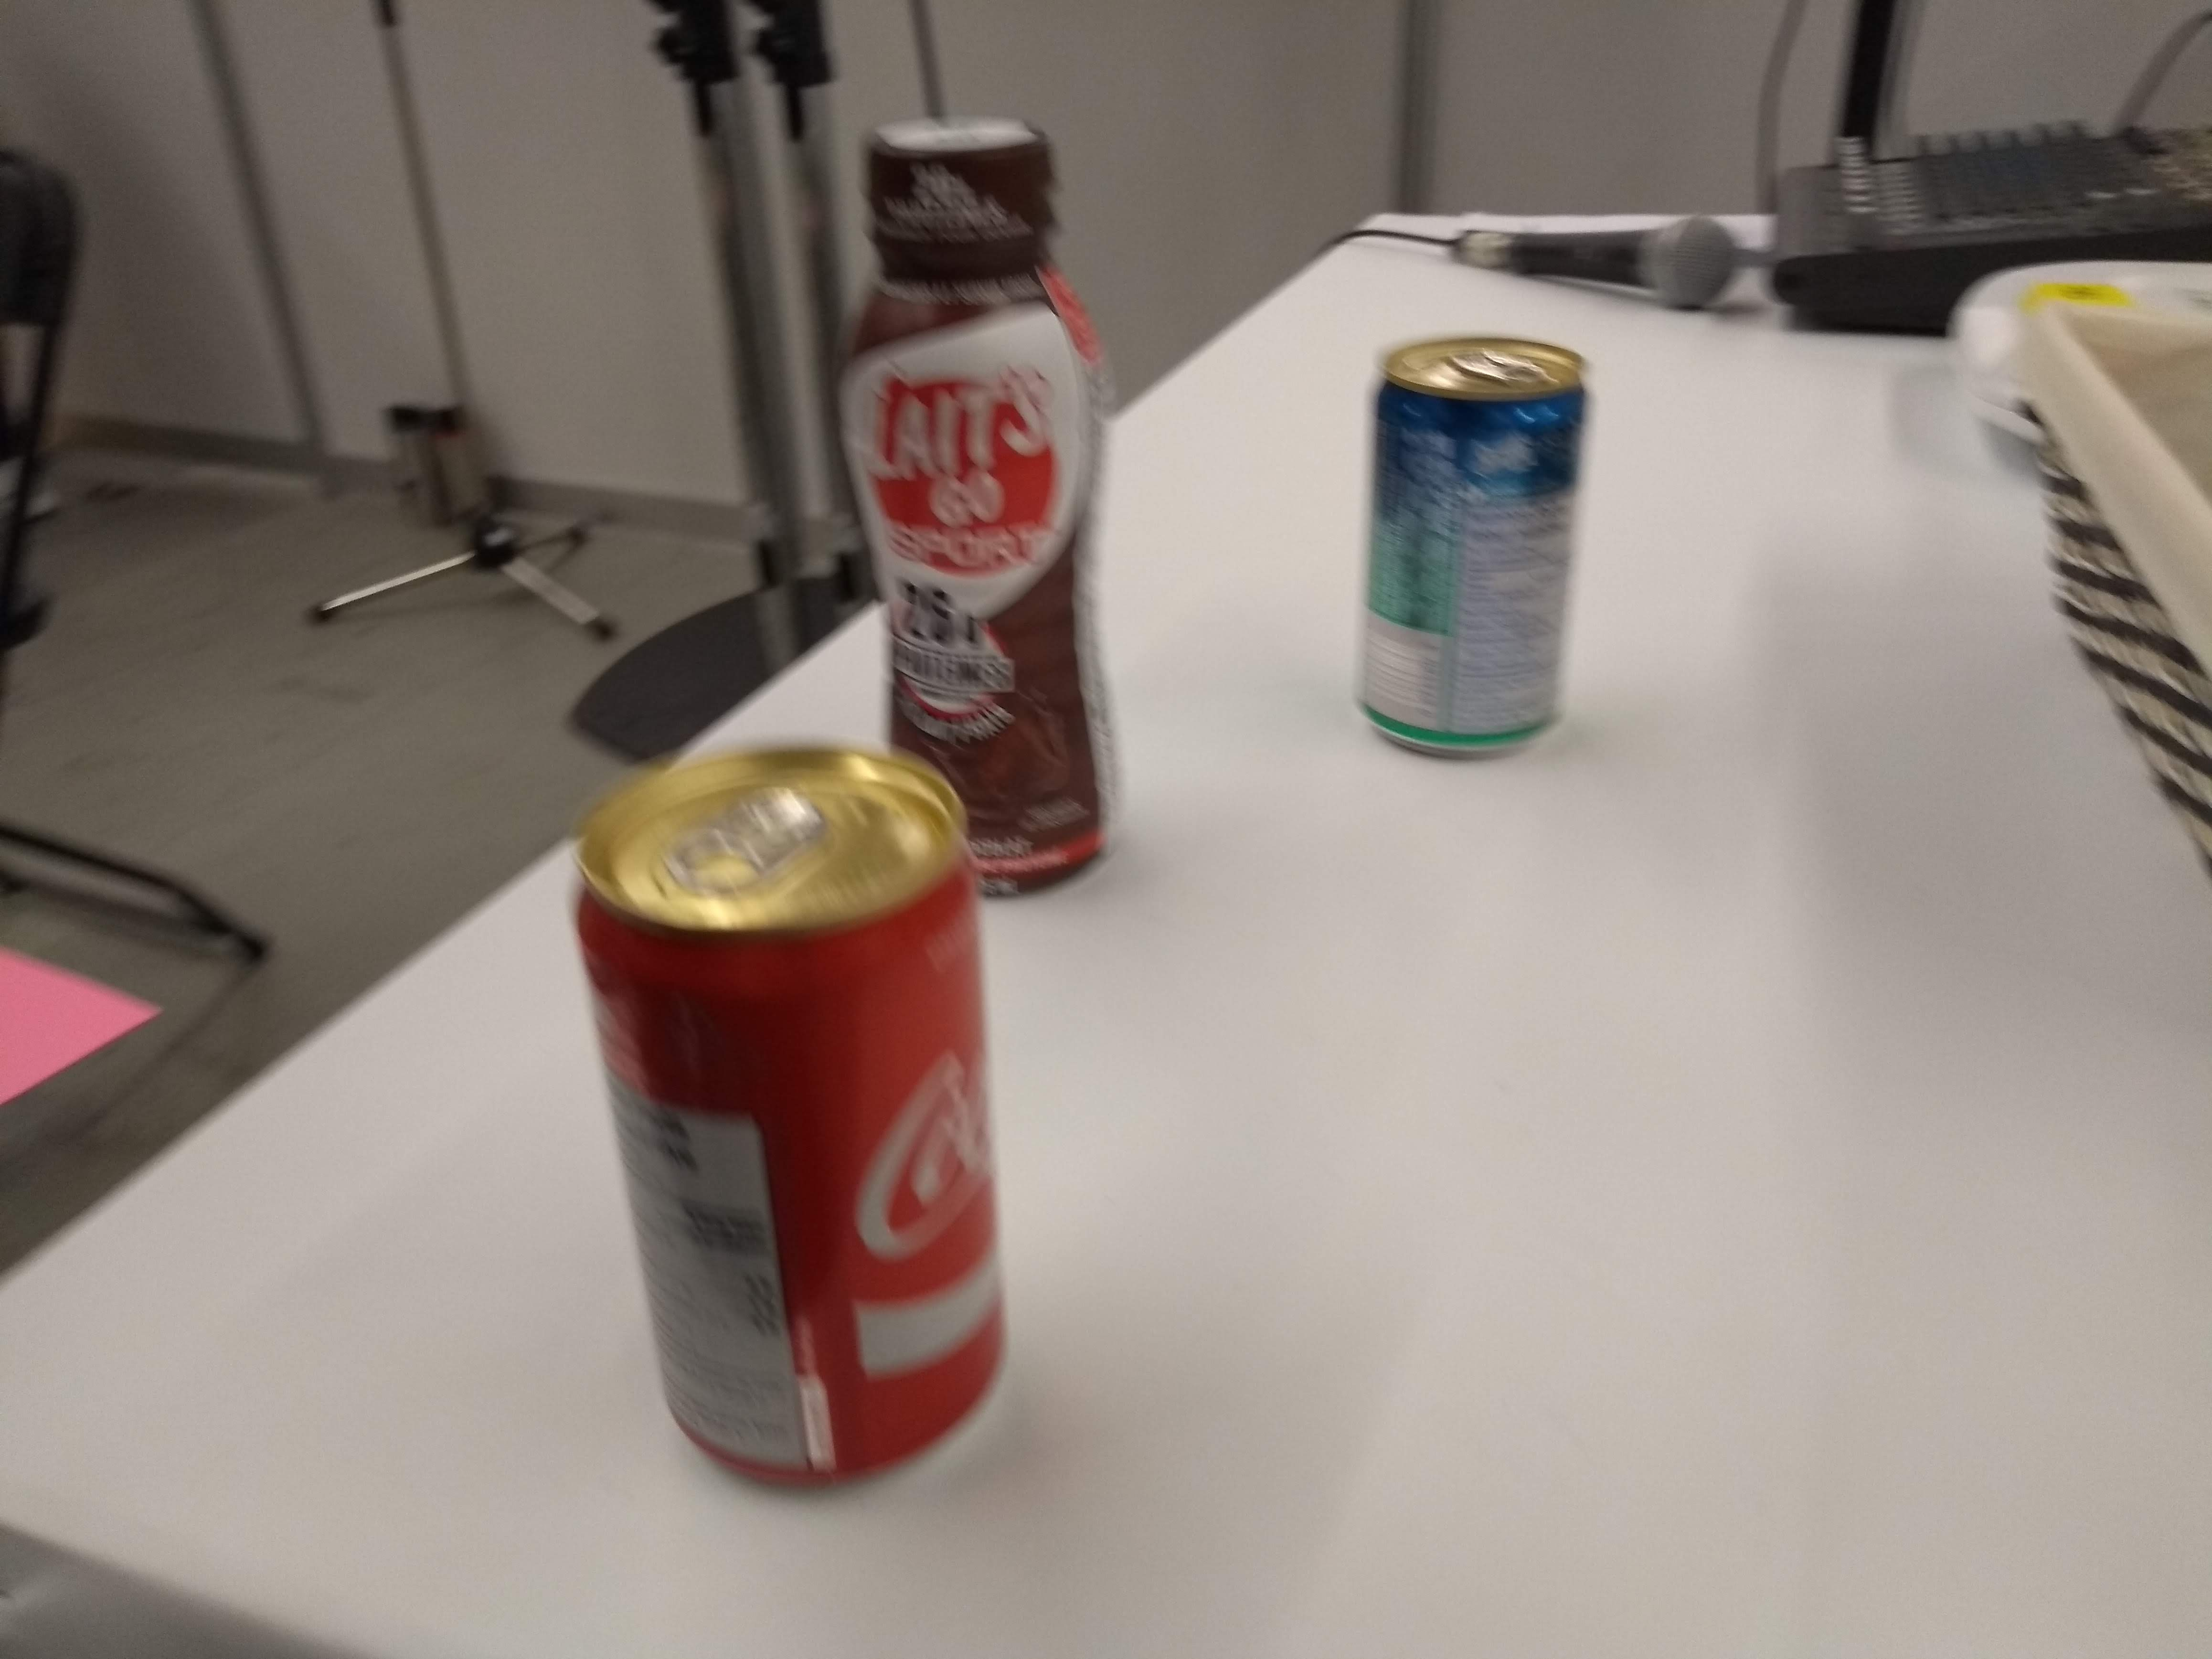chocolate_drink: (838, 103, 1129, 910)
coke: (561, 730, 1031, 1513)
sprite: (1334, 322, 1609, 774)
